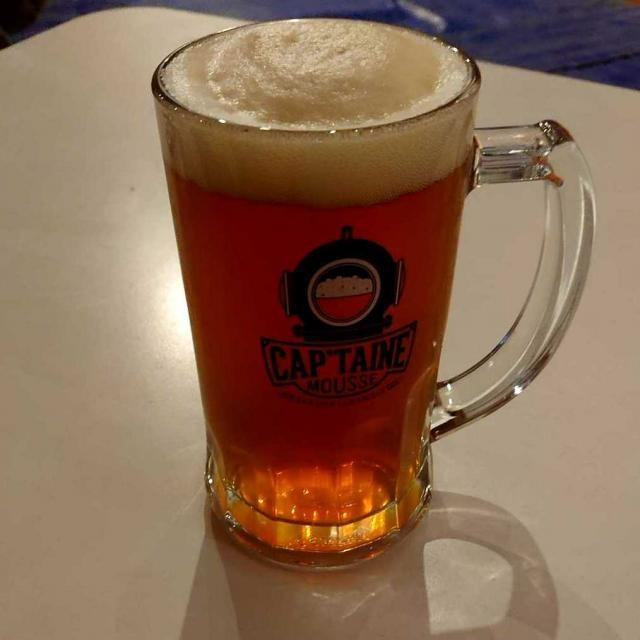beer: (161, 55, 477, 517)
